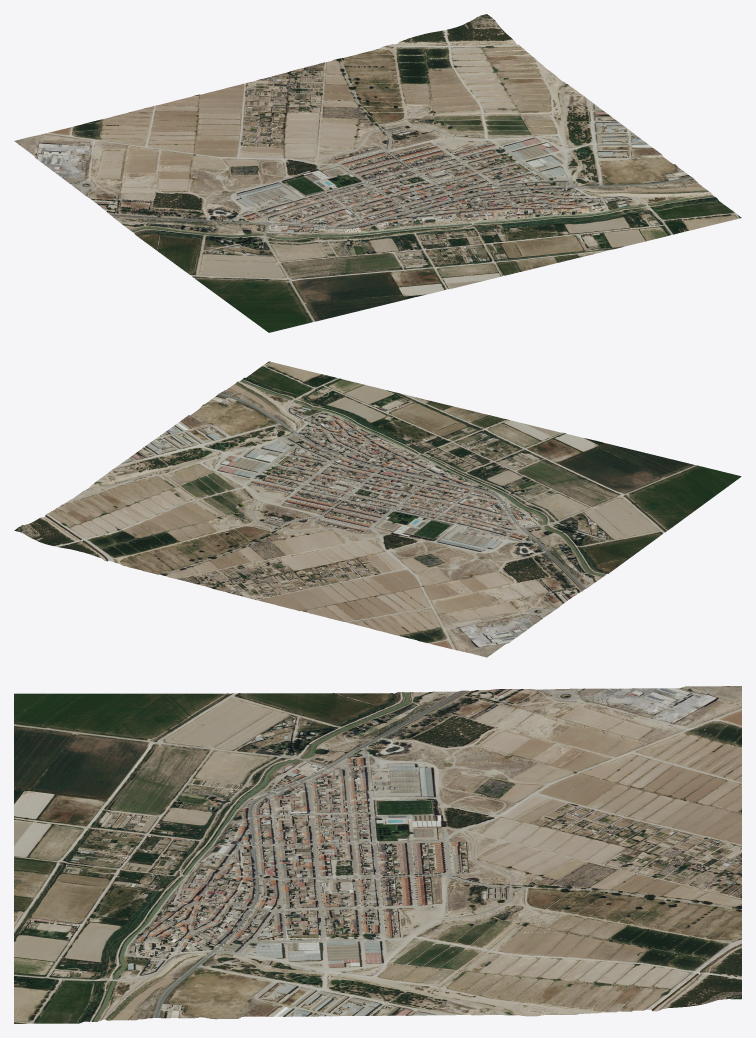
Rendered from cabanillas_bajo.glb.
3 views of the same model, one above another, from view 1: azimuth 30°, elevation 25°; view 2: azimuth 150°, elevation 25°; view 3: azimuth 270°, elevation 25° (orthographic). The views are drawn at different scales.
Visible parts, largest first — view 1: terreno_0_3, terreno_2_1, terreno_3_2, terreno_3_3, terreno_1_0, terreno_0_2, terreno_2_0, terreno_0_1, terreno_1_3, terreno_0_0, terreno_1_2, terreno_2_3 (+4 smaller); view 2: terreno_1_1, terreno_3_0, terreno_3_1, terreno_2_2, terreno_2_3, terreno_1_0, terreno_0_2, terreno_2_0, terreno_0_1, terreno_0_0, terreno_1_2, terreno_1_3 (+4 smaller); view 3: terreno_3_0, terreno_2_2, terreno_3_1, terreno_3_3, terreno_1_2, terreno_1_3, terreno_0_0, terreno_2_3, terreno_0_1, terreno_1_1, terreno_2_0, terreno_0_2 (+4 smaller).
Boxes of the visible parts, x1,y1,x2,y2 form: terreno_0_3: [369, 14, 550, 100]; terreno_2_1: [260, 177, 440, 257]; terreno_3_2: [442, 195, 623, 275]; terreno_3_3: [560, 167, 741, 246]; terreno_1_0: [78, 160, 259, 239]; terreno_0_2: [251, 51, 431, 129]; terreno_2_0: [142, 207, 322, 286]; terreno_0_1: [132, 82, 313, 159]; terreno_1_3: [433, 72, 613, 148]; terreno_0_0: [14, 111, 195, 189]; terreno_1_2: [314, 100, 495, 177]; terreno_2_3: [496, 119, 677, 195]; terreno_1_1: [314, 507, 495, 583]; terreno_3_0: [560, 447, 741, 522]; terreno_3_1: [442, 419, 623, 493]; terreno_2_2: [260, 432, 441, 507]; terreno_2_3: [142, 403, 322, 479]; terreno_1_0: [433, 537, 613, 612]; terreno_0_2: [132, 523, 313, 598]; terreno_2_0: [496, 494, 677, 569]; terreno_0_1: [251, 553, 431, 627]; terreno_0_0: [369, 583, 550, 657]; terreno_1_2: [196, 479, 377, 553]; terreno_1_3: [78, 449, 259, 523]; terreno_3_0: [14, 693, 195, 776]; terreno_2_2: [196, 852, 377, 936]; terreno_3_1: [14, 776, 195, 859]; terreno_3_3: [14, 934, 195, 1023]; terreno_1_2: [378, 850, 559, 935]; terreno_1_3: [378, 932, 559, 1016]; terreno_0_0: [560, 686, 741, 770]; terreno_2_3: [196, 934, 377, 1019]; terreno_0_1: [560, 767, 741, 850]; terreno_1_1: [378, 770, 559, 852]; terreno_2_0: [196, 693, 377, 775]; terreno_0_2: [560, 849, 741, 932].
Size of the model in its own units: 1500 by 54.12 by 1400.
Materials: 16 (16 with a texture image).
